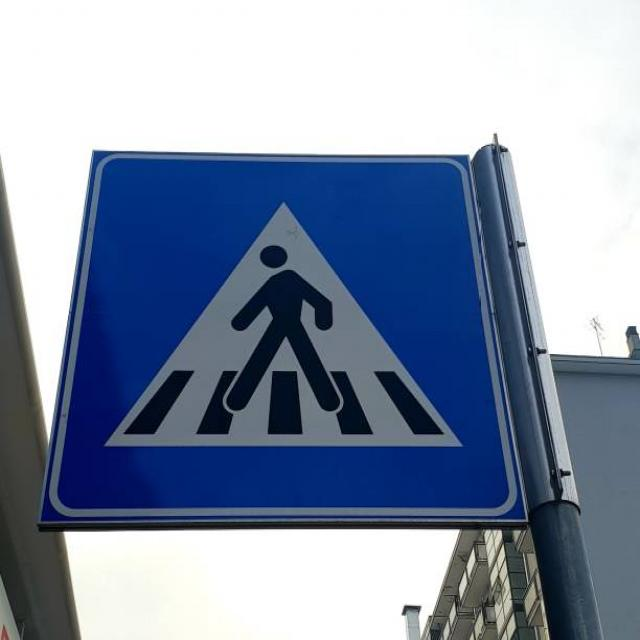crosswalk: (32, 121, 534, 533)
